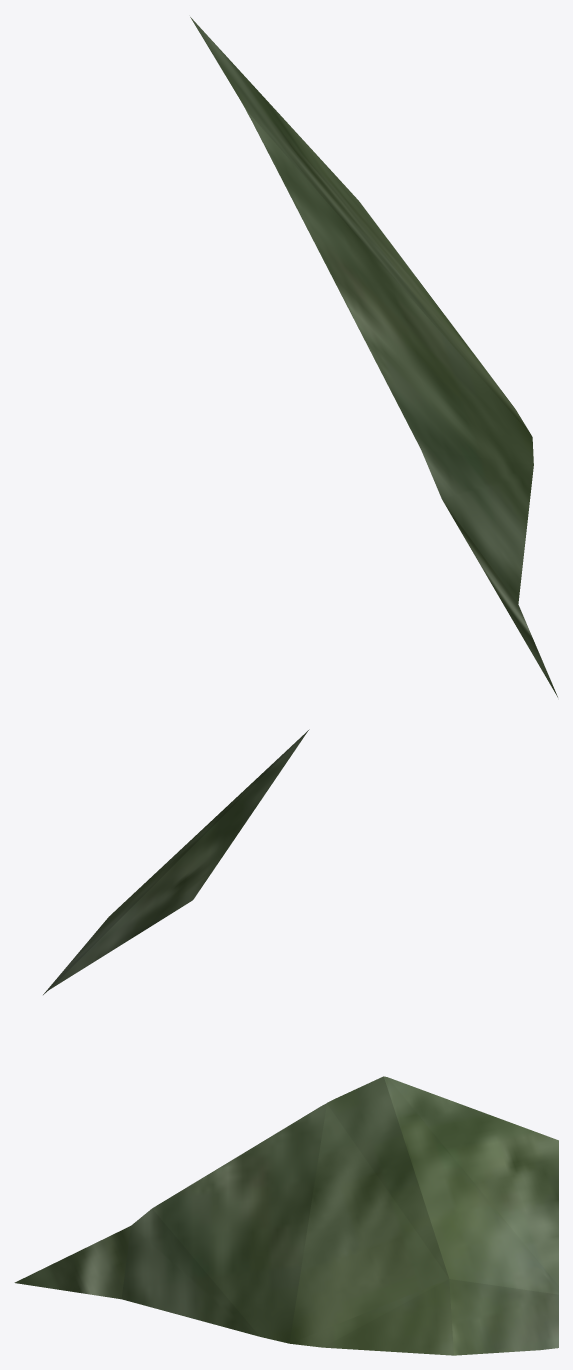
3 renders of one model, top to bottom at view 1: azimuth 30°, elevation 25°; view 2: azimuth 150°, elevation 25°; view 3: azimuth 270°, elevation 25°, orthographic. The views are drawn at different scales.
Bounding box in the file's own units: 0.4385 × 0.5813 × 1.39.
1 material, 1 textured.
